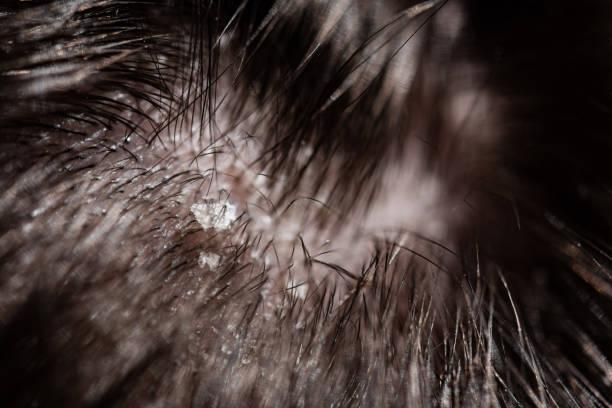dandruff: (162, 155, 257, 272), (68, 156, 163, 211), (205, 301, 251, 379)
